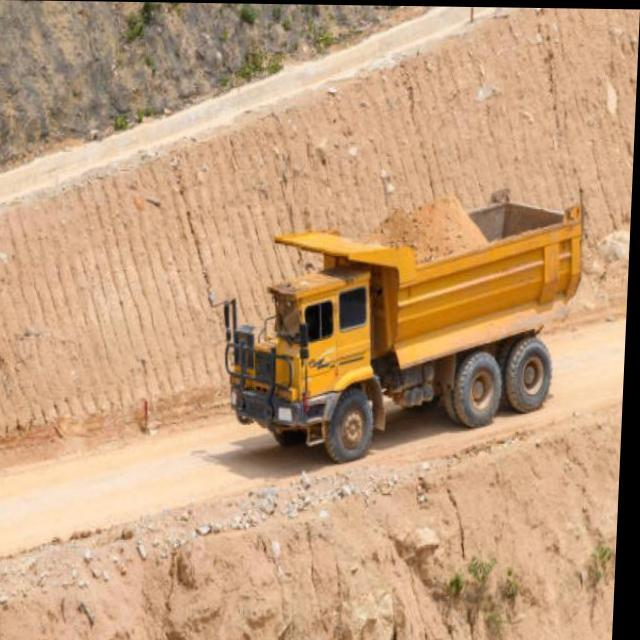uncovered: (275, 185, 582, 470)
